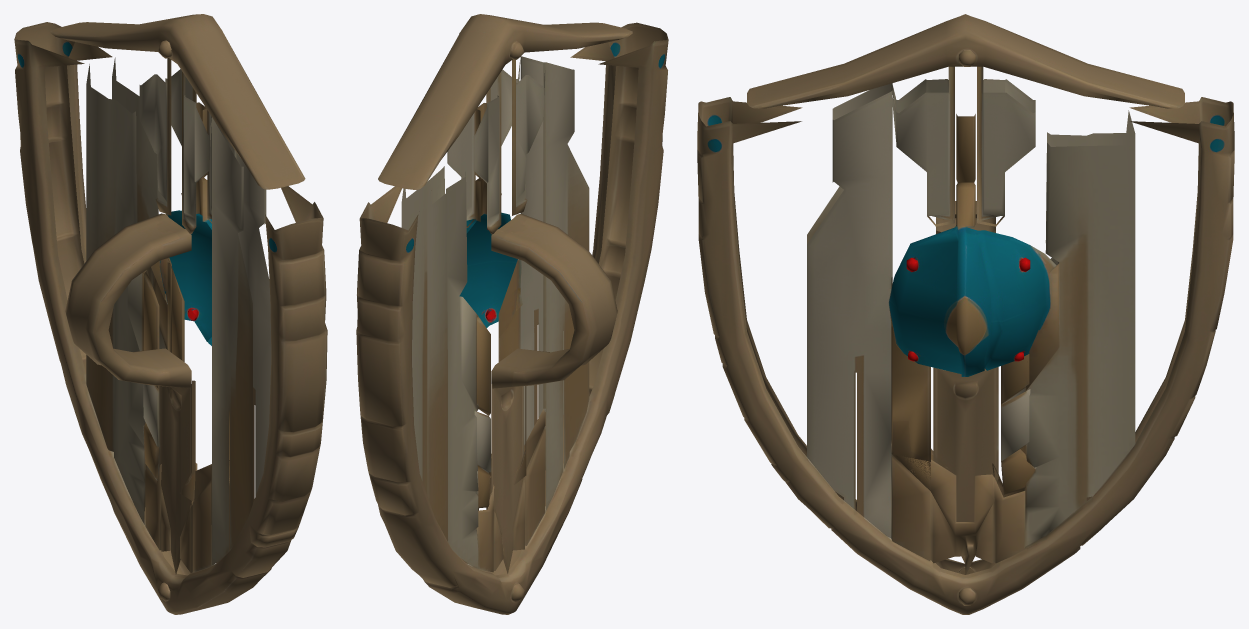
File: scrapwood_buckler.glb
The picture shows the model from 3 angles, left to right: view 1: azimuth 30°, elevation 25°; view 2: azimuth 150°, elevation 25°; view 3: azimuth 270°, elevation 25°; orthographic projection.
Parts seen in each view (by area): view 1: base_model_path; view 2: base_model_path; view 3: base_model_path.
Boxes of the visible parts, x1,y1,x2,y2 form: base_model_path: (14, 14, 327, 614); base_model_path: (356, 14, 668, 614); base_model_path: (697, 14, 1234, 614).
Size of the model in its own units: 0.3327 by 1 by 0.8238.
Materials: 1 (1 with a texture image).
